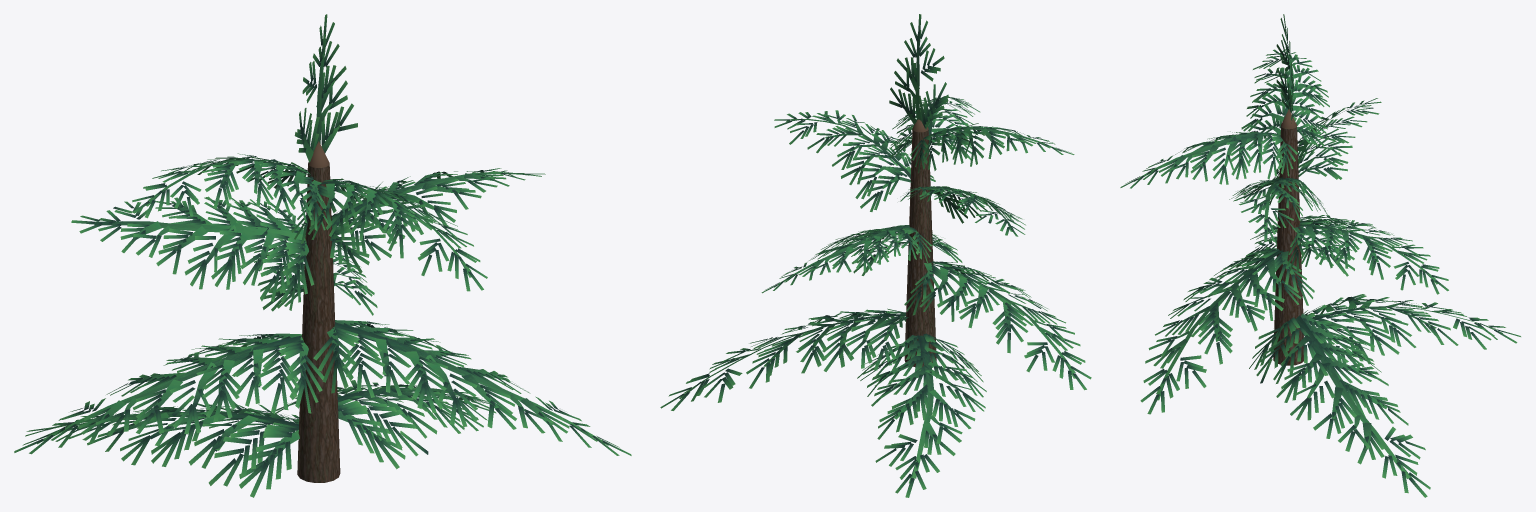
The model's file is ConiferTreeTop.fbx.
The picture shows the model from 3 angles, left to right: view 1: azimuth 30°, elevation 25°; view 2: azimuth 150°, elevation 25°; view 3: azimuth 270°, elevation 25°; orthographic projection. The views are drawn at different scales.
Parts seen in each view (by area): view 1: ConiferTreeTop; view 2: ConiferTreeTop; view 3: ConiferTreeTop.
Boxes of the visible parts, x1,y1,x2,y2 form: ConiferTreeTop: (14, 14, 631, 497); ConiferTreeTop: (660, 14, 1091, 497); ConiferTreeTop: (1120, 14, 1520, 497).
Bounding box in the file's own units: 507 × 482 × 449.
1 material, 1 textured.
